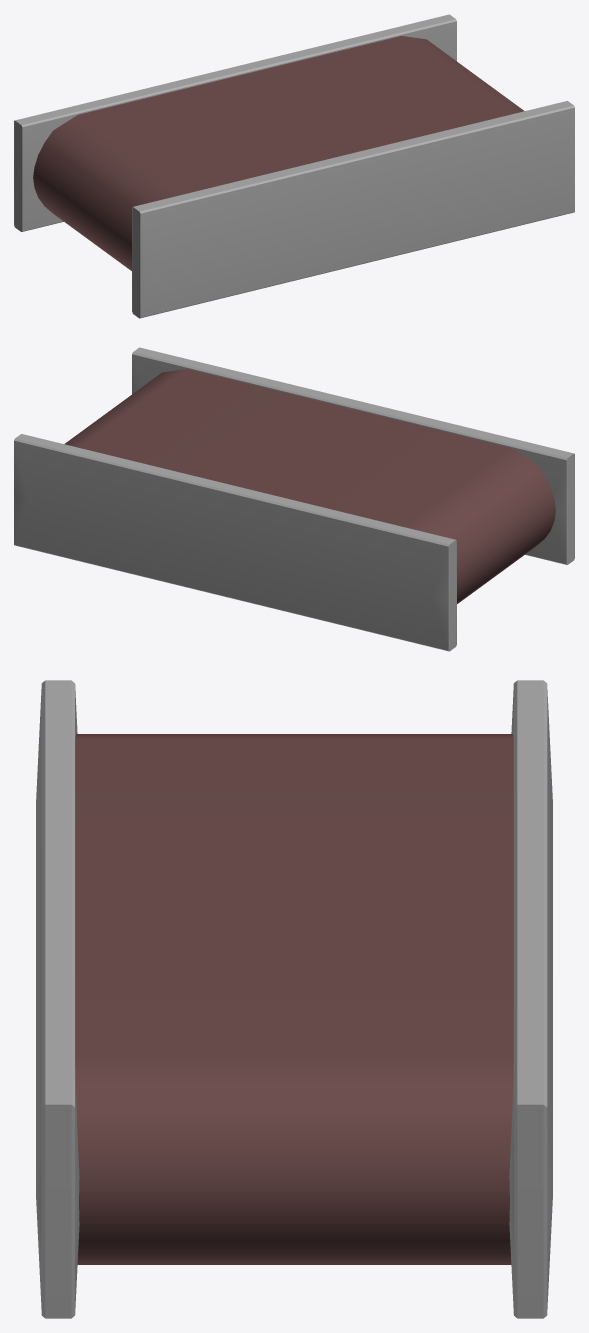
Rendered from P_CintaPortadora.fbx.
3 views of the same model, one above another, from view 1: azimuth 30°, elevation 25°; view 2: azimuth 150°, elevation 25°; view 3: azimuth 270°, elevation 25° (orthographic). The views are drawn at different scales.
Parts seen in each view (by area): view 1: Cinta; view 2: Cinta; view 3: Cinta.
Part boxes in pixels (x1,y1,x2,y2): Cinta: (14,14,574,318); Cinta: (14,347,574,651); Cinta: (36,680,552,1318).
Size of the model in its own units: 4.01 by 0.9395 by 2.06.
